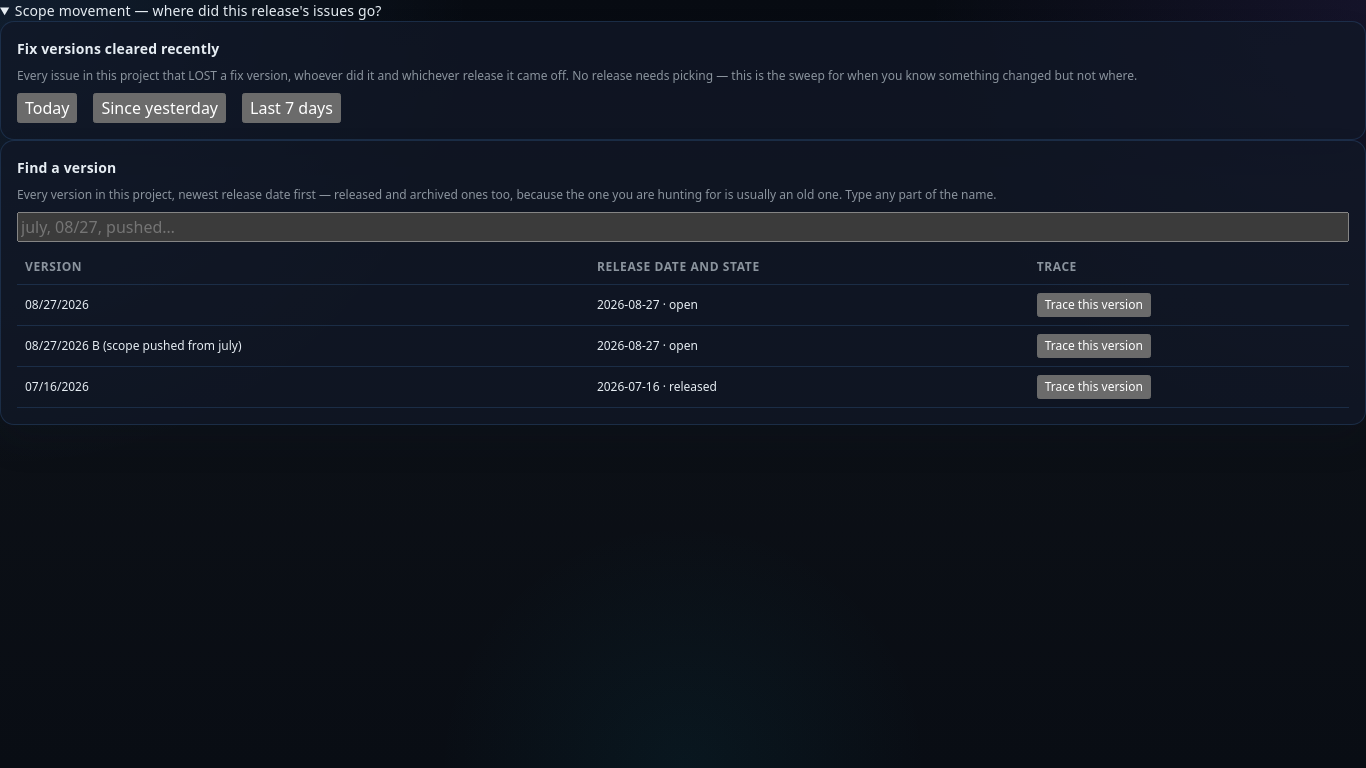
Test: VersionMovementPanel — tracing what left › groups the departures, so twelve going to one place is said once
Click the 1st button "Trace this version": point(1094, 305) [1037,293,1151,317]
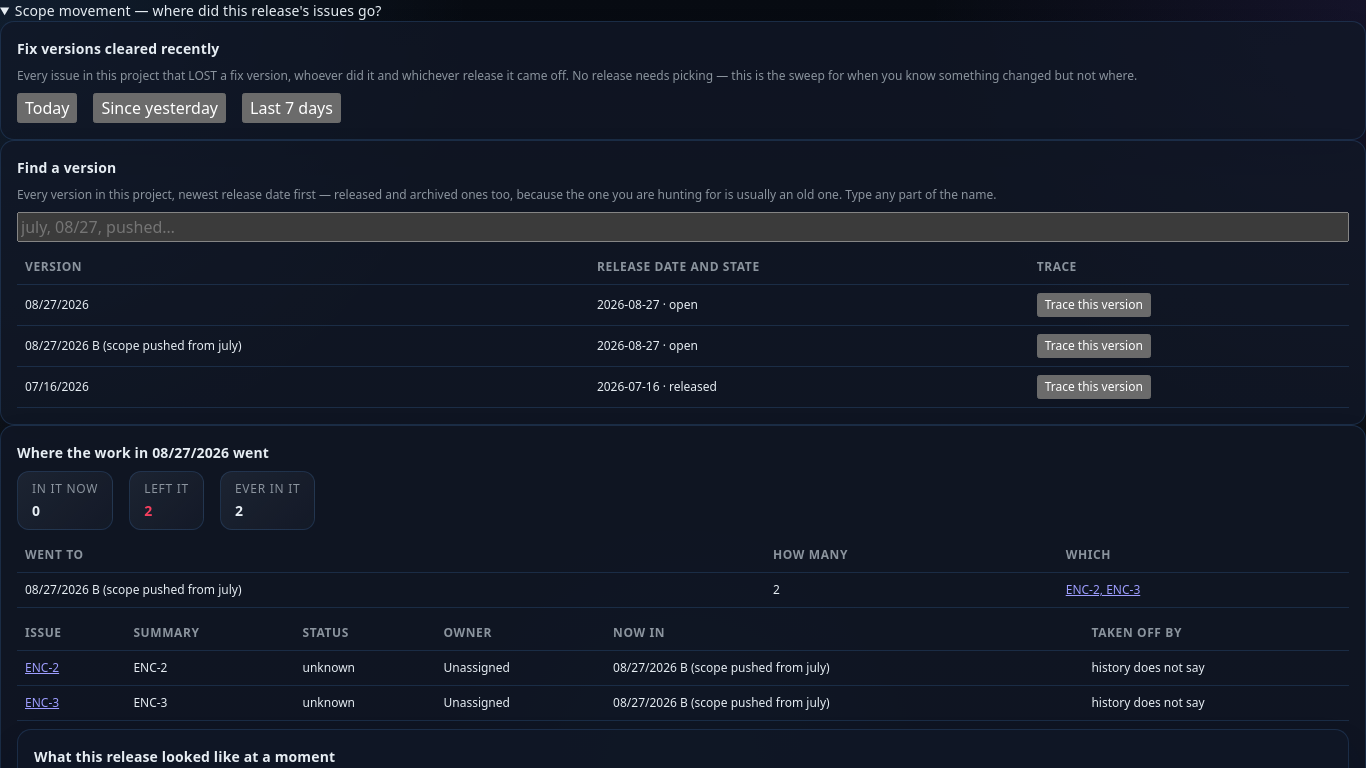
Result: the column heading "Went to" is shown at [17,538,765,572]
Result: the link "ENC-2, ENC-3" is shown at [1066,581,1140,598]
